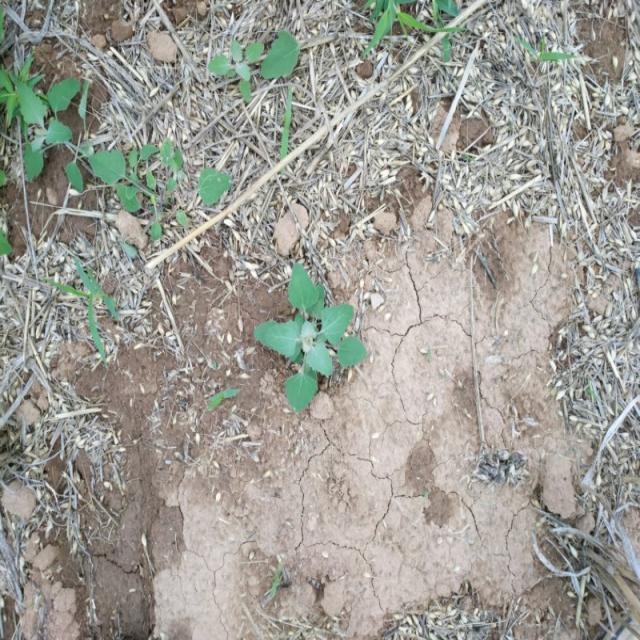goosefoots: (254, 257, 380, 431)
